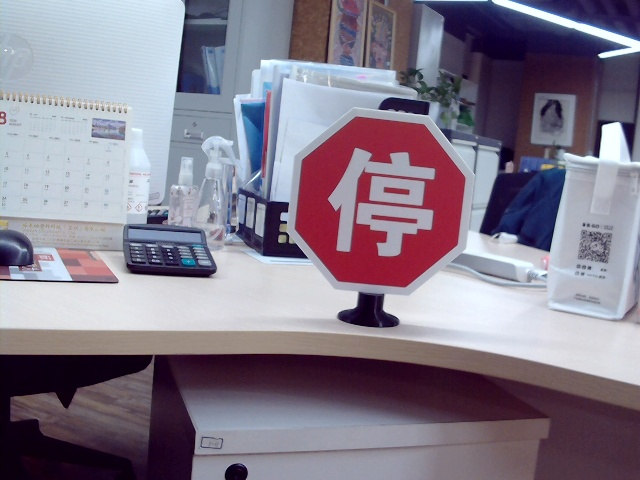stop: (326, 141, 431, 258)
